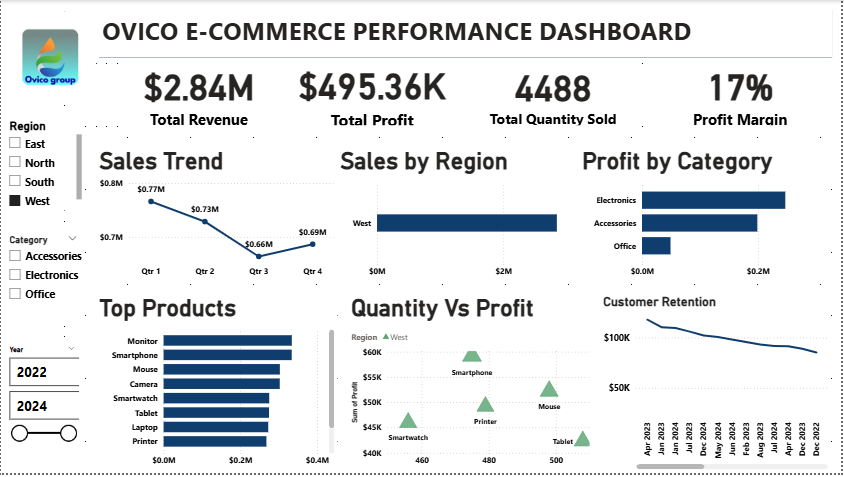

What the dashboard file says about the page in this screenshot:
{"tool":"powerbi","page":{"name":"Executive Overview","canvas":[1280,720],"ordinal":0},"visuals":[{"type":"card","fields":{"Values":["SalesData.Total Revenue"]},"box":[179.7,87.3,243.6,109.2],"z":0},{"type":"card","fields":{"Values":["SalesData.Total Profit"]},"box":[423.3,87.3,283.9,109.2],"z":1000},{"type":"card","fields":{"Values":["SalesData.Total Quantity Sold"]},"box":[717.3,87.3,246.9,109.2],"z":2000},{"type":"card","fields":{"Values":["SalesData.Profit Margin","select"]},"box":[986,87.3,280.5,109.2],"z":3000},{"type":"lineChart","title":"Sales Trend","fields":{"Y":["Sum(SalesData.Sales)"],"Category":["SalesData.Order Date.Variation.Date Hierarchy.Quarter","SalesData.Order Date.Variation.Date Hierarchy.Month","SalesData.Order Date.Variation.Date Hierarchy.Day"]},"box":[144,224,368,208],"z":4000},{"type":"clusteredBarChart","title":"Sales by Region","fields":{"Category":["SalesData.Region"],"Y":["Sum(SalesData.Sales)"]},"box":[512,224,368,208],"z":5000},{"type":"clusteredBarChart","title":"Profit by Category","fields":{"Category":["SalesData.Category"],"Y":["Sum(SalesData.Profit)"]},"box":[880,224,384,208],"z":6000},{"type":"clusteredBarChart","title":"Top Products","fields":{"Category":["SalesData.Product Name"],"Y":["Sum(SalesData.Sales)"]},"box":[144,448,368,272],"z":7000},{"type":"scatterChart","title":"Quantity Vs Profit","fields":{"X":["Sum(SalesData.Quantity)"],"Y":["Sum(SalesData.Profit)"],"Series":["SalesData.Region"],"Size":["SalesData.Total Revenue"],"Category":["SalesData.Product Name"]},"box":[528,448,384,272],"z":8000},{"type":"slicer","fields":{"Values":["SalesData.Region"]},"box":[0,176,128,144],"z":9000},{"type":"slicer","fields":{"Values":["SalesData.Category"]},"box":[0,352,128,144],"z":10000},{"type":"slicer","fields":{"Values":["SalesData.Year"]},"box":[0,520.7,124.3,186.5],"z":11000},{"type":"shape","box":[149.5,15.1,1117.1,72.2],"z":12000},{"type":"image","box":[0,0,149.5,174.7],"z":13000},{"type":"textbox","box":[149.5,15.1,1117.1,72.2],"z":14000},{"type":"lineChart","title":"Customer Retention","fields":{"Category":["SalesData.MonthYear"],"Y":["Sum(SalesData.Sales)"]},"box":[912,448,352,272],"z":15000}]}

Visuals, with their boxes in screenshot pixels (x1, y1, x2, y2), scaled from the page's 1280x720 canvas onto the 844x477 screenshot:
card - SalesData.Total Revenue: (left=118, top=58, right=279, bottom=130)
card - SalesData.Total Profit: (left=279, top=58, right=466, bottom=130)
card - SalesData.Total Quantity Sold: (left=473, top=58, right=636, bottom=130)
card - SalesData.Profit Margin x select: (left=650, top=58, right=835, bottom=130)
"Sales Trend" lineChart: (left=95, top=148, right=338, bottom=286)
"Sales by Region" clusteredBarChart: (left=338, top=148, right=580, bottom=286)
"Profit by Category" clusteredBarChart: (left=580, top=148, right=833, bottom=286)
"Top Products" clusteredBarChart: (left=95, top=297, right=338, bottom=476)
"Quantity Vs Profit" scatterChart: (left=348, top=297, right=601, bottom=476)
slicer - SalesData.Region: (left=0, top=117, right=84, bottom=212)
slicer - SalesData.Category: (left=0, top=233, right=84, bottom=329)
slicer - SalesData.Year: (left=0, top=345, right=82, bottom=469)
shape: (left=99, top=10, right=835, bottom=58)
image: (left=0, top=0, right=99, bottom=116)
textbox: (left=99, top=10, right=835, bottom=58)
"Customer Retention" lineChart: (left=601, top=297, right=833, bottom=476)
